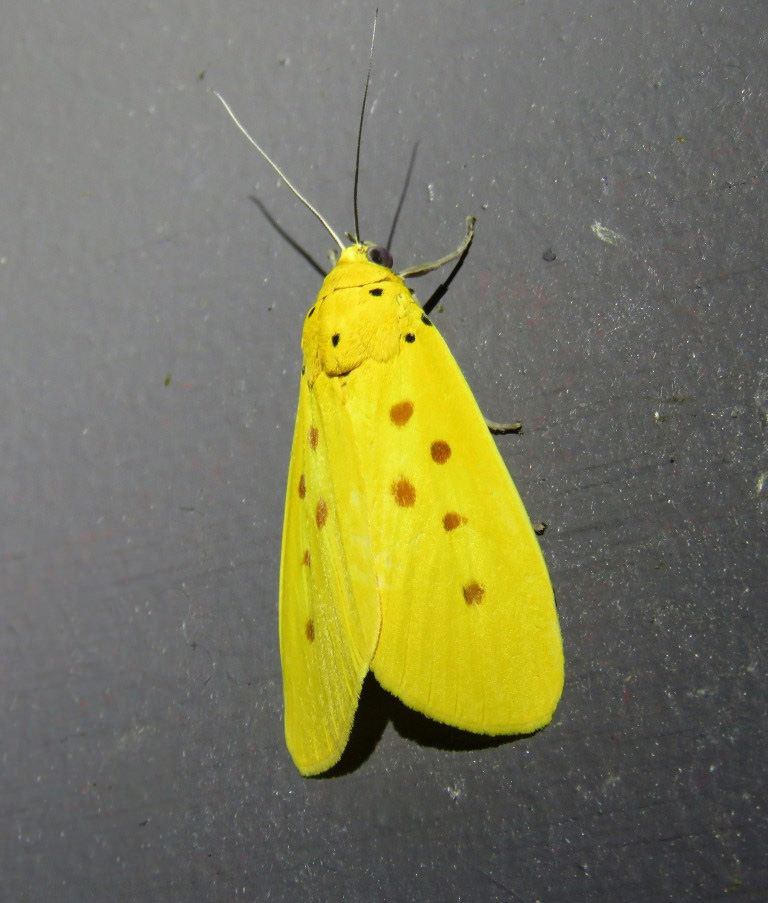Agape chloropyga: (212, 10, 569, 783)
moth: (214, 12, 571, 785)
